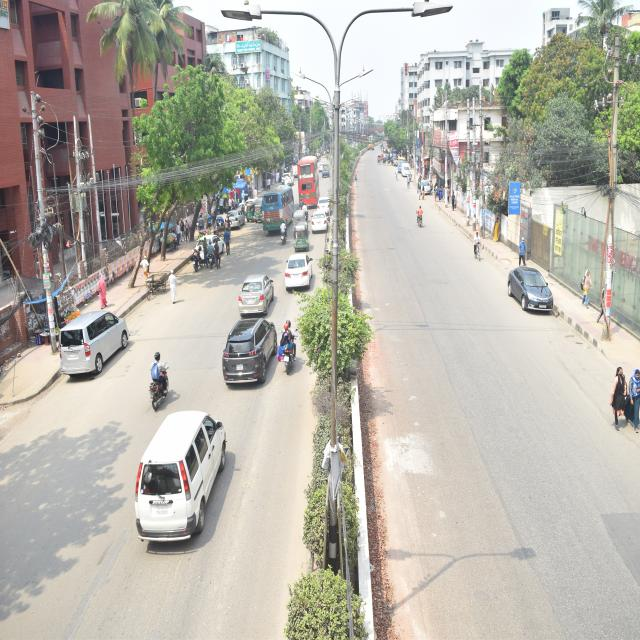bus: (286, 150, 326, 212), (259, 184, 298, 230)
car: (506, 262, 556, 315), (242, 272, 273, 316), (208, 207, 246, 232), (310, 206, 330, 241), (320, 190, 337, 221), (284, 258, 300, 280)
microbus: (103, 403, 235, 559), (55, 309, 121, 376)
motorbike: (140, 339, 177, 425), (272, 328, 306, 413)
